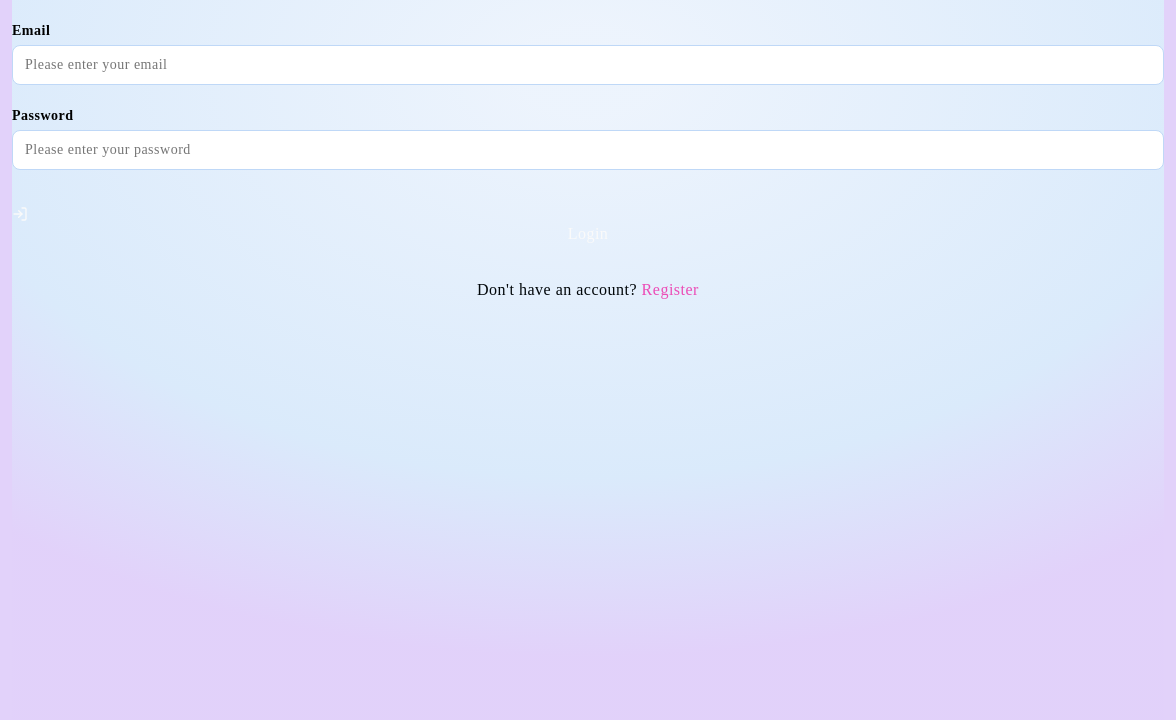
Test: Login Form › shows an error for invalid email format
Type "invalid-email" into the field labelled "Email" at point(588, 65), box top-left (12, 45), bottom-right (1164, 85)
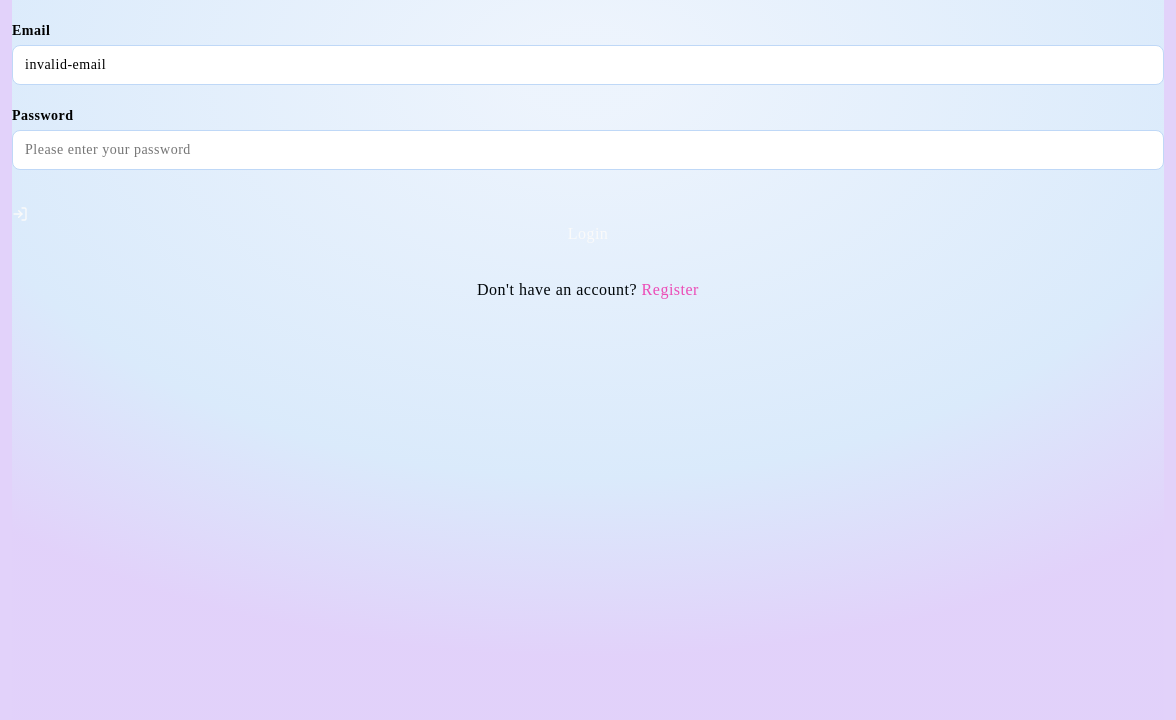
Leave the field labelled "Email", box top-left (12, 45), bottom-right (1164, 85)
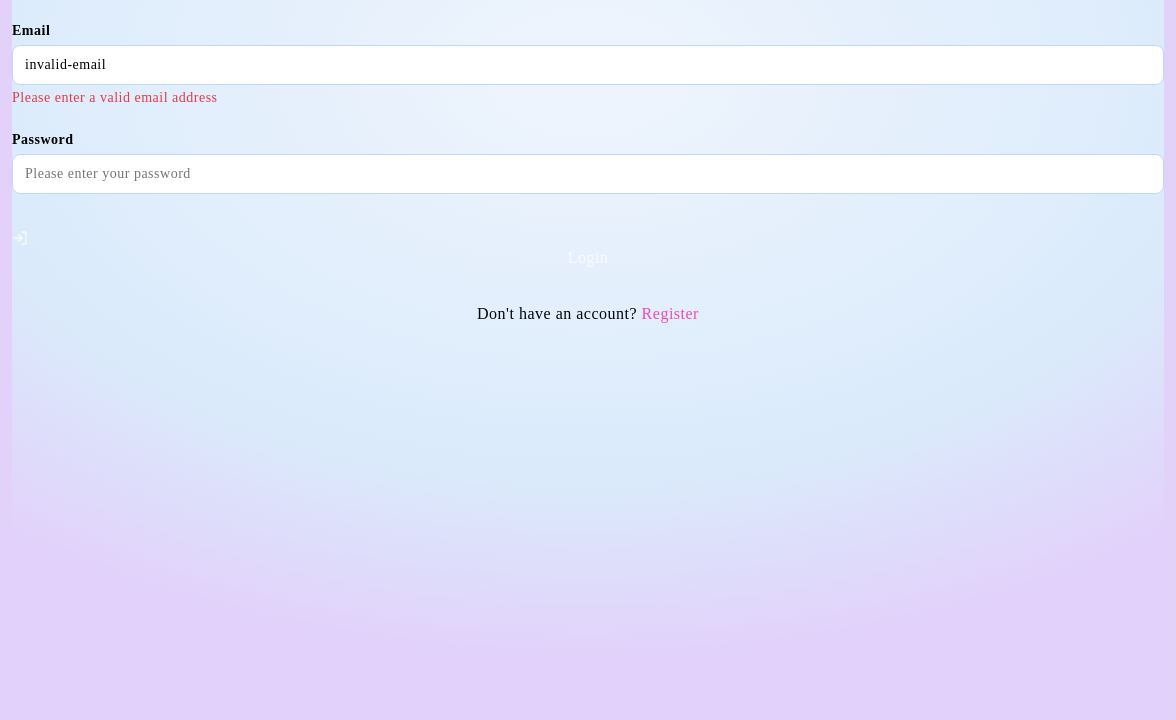
Expected: the text "Please enter a valid email address" is shown, top-left (12, 90), bottom-right (218, 105)
